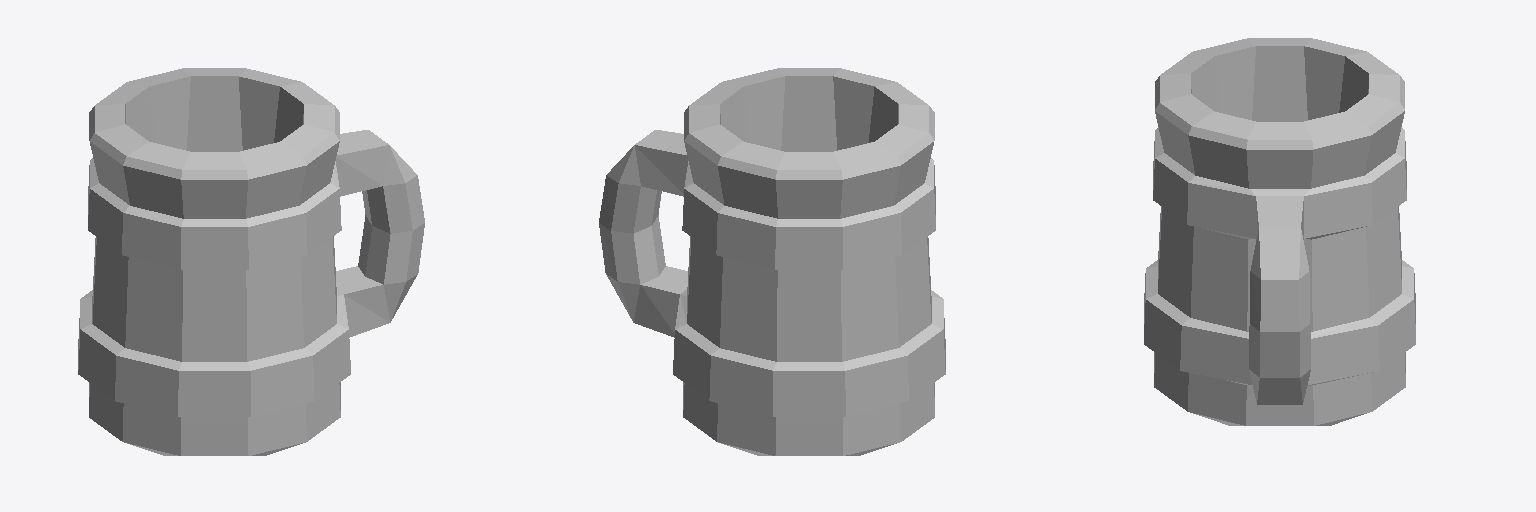
Rendered from mug_empty_Large.obj.
3 renders of one model, left to right at view 1: azimuth 30°, elevation 25°; view 2: azimuth 150°, elevation 25°; view 3: azimuth 270°, elevation 25°, orthographic.
Visible parts, largest first — view 1: mug_empty_Large; view 2: mug_empty_Large; view 3: mug_empty_Large.
Boxes of the visible parts, <box> form: mug_empty_Large: <box>78,68,424,455</box>; mug_empty_Large: <box>599,68,945,455</box>; mug_empty_Large: <box>1144,38,1415,425</box>.
Size of the model in its own units: 1.07 by 0.9735 by 0.7919.